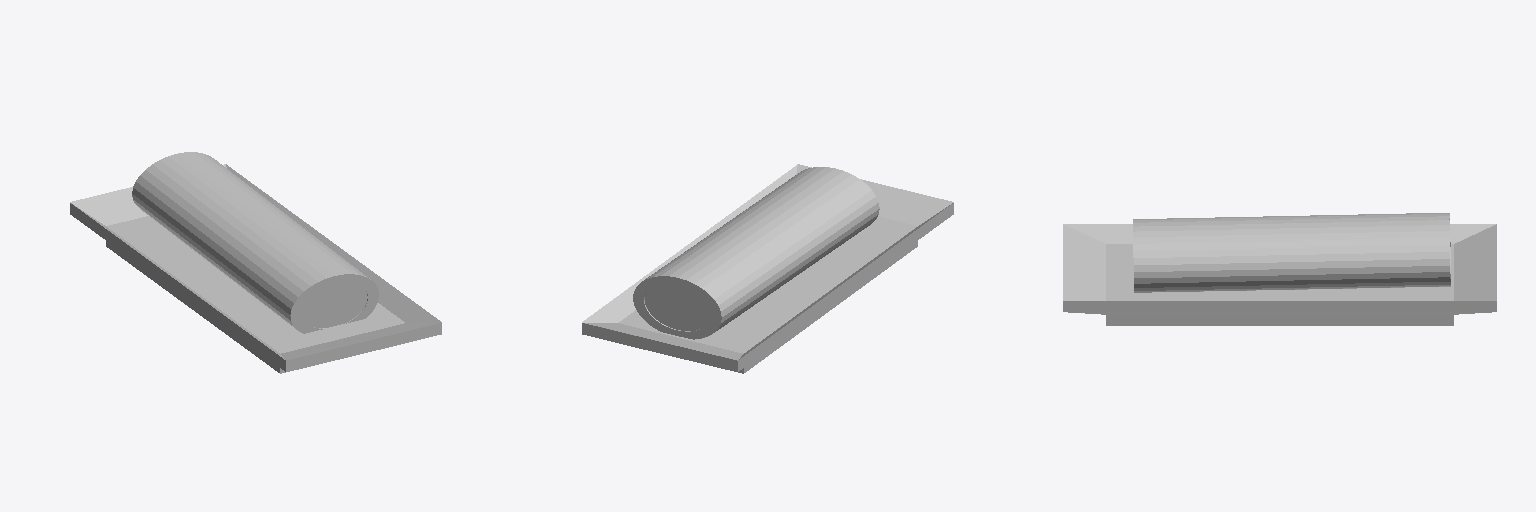
File: ROTI GULUNG ORIGINAL  .obj
3 views of the same model, side by side, from view 1: azimuth 30°, elevation 25°; view 2: azimuth 150°, elevation 25°; view 3: azimuth 270°, elevation 25° (orthographic).
Parts seen in each view (by area): view 1: Cube, Cylinder.003, Cylinder.002; view 2: Cube, Cylinder.003, Cylinder.002; view 3: Cylinder.003, Cube.
Part boxes in pixels (left/top/right/bottom): Cube: left=70, top=164, right=441, bottom=373; Cylinder.003: left=132, top=152, right=378, bottom=333; Cylinder.002: left=302, top=282, right=367, bottom=328; Cube: left=582, top=164, right=953, bottom=373; Cylinder.003: left=633, top=167, right=879, bottom=339; Cylinder.002: left=645, top=284, right=710, bottom=330; Cylinder.003: left=1133, top=213, right=1450, bottom=292; Cube: left=1063, top=224, right=1496, bottom=325.
Size of the model in its own units: 1.18 by 0.5604 by 2.83.